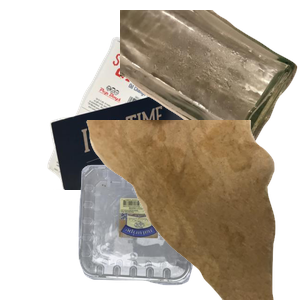glass: (120, 10, 300, 153)
paper: (45, 34, 230, 214)
plastic: (76, 162, 264, 300)
trash: (84, 120, 300, 300)
